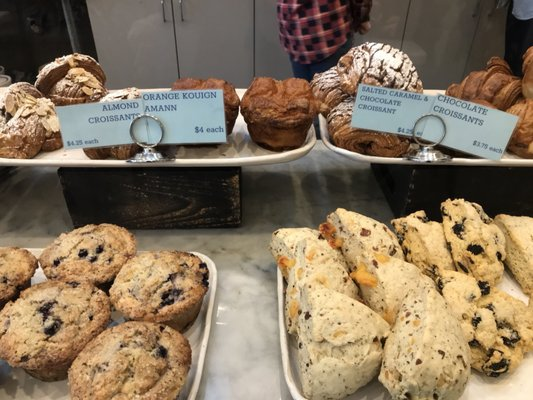salad: (0, 278, 111, 381)
sushi: (240, 76, 317, 151), (0, 82, 64, 159)
